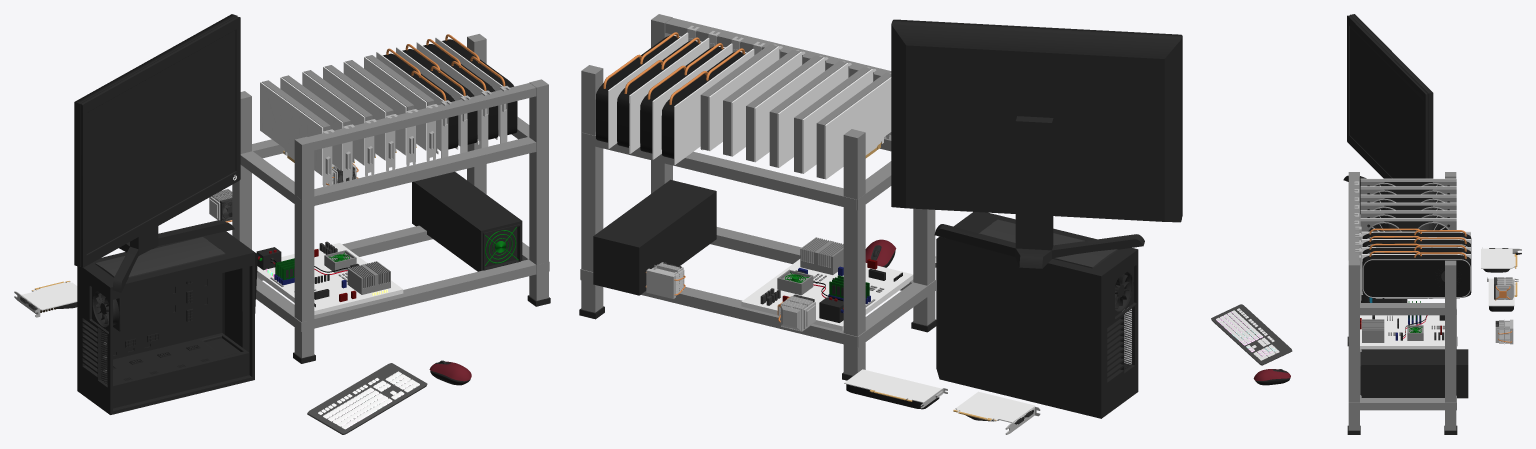
Rendered from assembledglb.glb.
3 renders of one model, left to right at view 1: azimuth 30°, elevation 25°; view 2: azimuth 150°, elevation 25°; view 3: azimuth 270°, elevation 25°, orthographic. The views are drawn at different scales.
Parts seen in each view (by area): view 1: Cube.001, Cube.016, Cube.112, Cube.027, Cube.121, Cube.110, Cube.008, Cube.011, Cube.004, Cube.010, Cube.009, Cube.003 (+7 smaller); view 2: Cube.001, Cube.112, Cube.016, Cube.027, Cube.121, Cube.008, Cube.010, Cube.011, Cube.009, Cube.012, Cube.004, Cube.003 (+8 smaller); view 3: Cube.001, Cube.016, Cube.027, Cube.012, Cube.121, Cube.110, Cube.006, Cube.009, Cube.010, Cube.011, Cube.004, Cube.008 (+8 smaller).
Part boxes in pixels (x1,y1,x2,y2): Cube.001: (74, 14, 240, 292); Cube.016: (232, 34, 550, 363); Cube.112: (77, 231, 257, 414); Cube.027: (412, 171, 522, 271); Cube.121: (256, 241, 403, 314); Cube.110: (307, 363, 427, 434); Cube.008: (260, 80, 334, 187); Cube.011: (416, 39, 498, 148); Cube.004: (302, 70, 376, 177); Cube.010: (376, 48, 458, 157); Cube.009: (396, 44, 477, 153); Cube.003: (323, 65, 397, 172); Cube.001: (891, 19, 1182, 268); Cube.112: (936, 212, 1138, 418); Cube.016: (579, 14, 936, 380); Cube.027: (593, 179, 716, 295); Cube.121: (741, 237, 913, 330); Cube.008: (816, 72, 891, 179); Cube.010: (661, 41, 765, 164); Cube.011: (617, 31, 720, 153); Cube.009: (640, 36, 743, 159); Cube.012: (595, 25, 699, 148); Cube.004: (769, 61, 851, 167); Cube.003: (746, 55, 828, 162); Cube.001: (1343, 14, 1433, 186); Cube.016: (1347, 172, 1457, 434); Cube.027: (1360, 349, 1468, 398); Cube.012: (1355, 249, 1471, 300); Cube.121: (1360, 301, 1444, 349); Cube.110: (1211, 304, 1292, 365); Cube.006: (1354, 218, 1456, 232); Cube.009: (1355, 234, 1471, 252); Cube.010: (1355, 226, 1471, 244); Cube.011: (1355, 242, 1471, 259); Cube.004: (1354, 194, 1456, 226); Cube.008: (1354, 178, 1456, 210).
Bounding box in the file's own units: 6.52 × 4.27 × 4.8.
